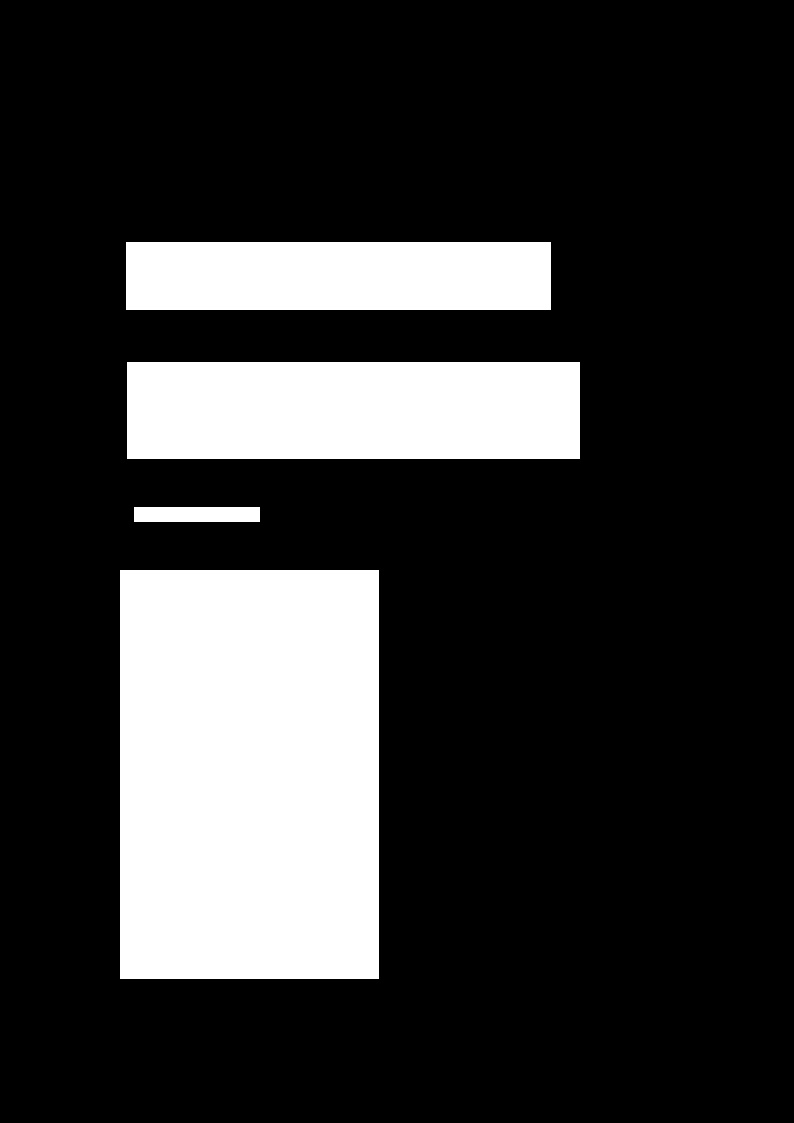table: (120, 570, 378, 978), (127, 362, 579, 458), (126, 242, 550, 309), (134, 507, 259, 521)
